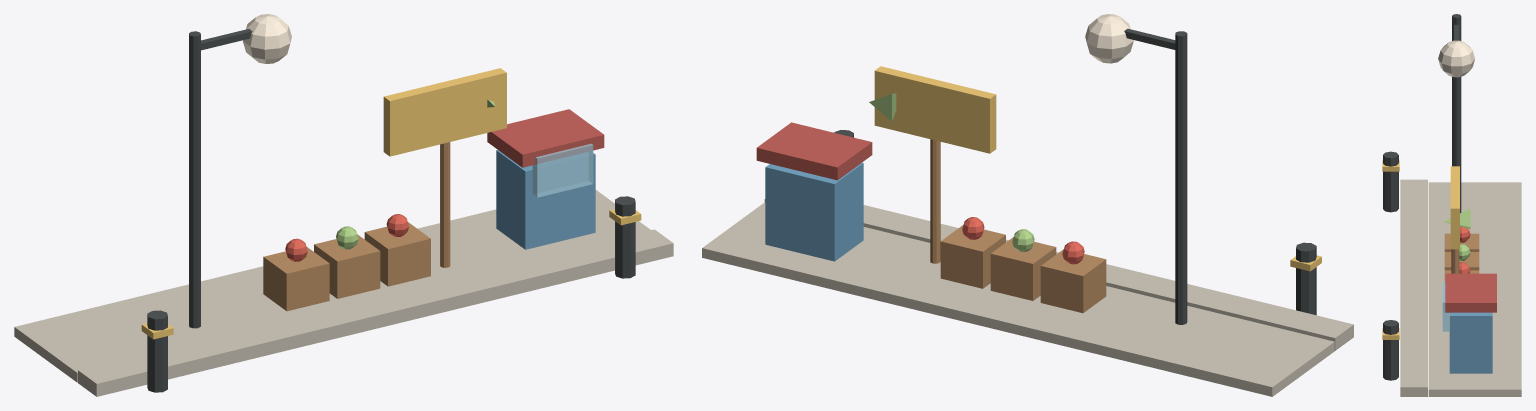
File: street-detail-kit.glb
3 renders of one model, left to right at view 1: azimuth 30°, elevation 25°; view 2: azimuth 150°, elevation 25°; view 3: azimuth 270°, elevation 25°, orthographic. The views are drawn at different scales.
Parts seen in each view (by area): view 1: StreetKit_Pavement, StreetKit_Curb, StreetKit_Sign_Board, StreetKit_Newsstand_Base, StreetKit_Newsstand_Roof, StreetKit_Lamp_Post, StreetKit_Crate_0, StreetKit_Crate_1, StreetKit_Crate_2, StreetKit_Newsstand_Face, StreetKit_Lamp_Globe, StreetKit_Bollard_-3.0 (+2 smaller); view 2: StreetKit_Pavement, StreetKit_Newsstand_Base, StreetKit_Sign_Board, StreetKit_Curb, StreetKit_Newsstand_Roof, StreetKit_Lamp_Post, StreetKit_Crate_0, StreetKit_Crate_1, StreetKit_Crate_2, StreetKit_Lamp_Globe, StreetKit_Sign_Post, StreetKit_Bollard_-3.0; view 3: StreetKit_Pavement, StreetKit_Curb, StreetKit_Newsstand_Base, StreetKit_Newsstand_Roof, StreetKit_Lamp_Post, StreetKit_Lamp_Globe, StreetKit_Bollard_-3.0, StreetKit_Bollard_3.0, StreetKit_Sign_Board, StreetKit_Crate_1, StreetKit_Crate_0, StreetKit_Newsstand_Face (+4 smaller).
Part boxes in pixels (x1,y1,x2,y2): StreetKit_Pavement: (14,190,650,382); StreetKit_Curb: (78,229,673,396); StreetKit_Sign_Board: (383,68,506,156); StreetKit_Newsstand_Base: (496,150,595,249); StreetKit_Newsstand_Roof: (487,109,604,167); StreetKit_Lamp_Post: (189,31,200,328); StreetKit_Crate_0: (263,246,329,311); StreetKit_Crate_1: (314,234,380,298); StreetKit_Crate_2: (364,222,430,286); StreetKit_Newsstand_Face: (532,143,593,197); StreetKit_Lamp_Globe: (243,14,291,63); StreetKit_Bollard_-3.0: (147,310,167,392); StreetKit_Pavement: (702,202,1334,396); StreetKit_Newsstand_Base: (765,162,863,261); StreetKit_Sign_Board: (874,66,996,153); StreetKit_Curb: (764,199,1353,350); StreetKit_Newsstand_Roof: (756,122,872,180); StreetKit_Lamp_Post: (1175,31,1187,324); StreetKit_Crate_0: (1040,249,1106,313); StreetKit_Crate_1: (990,237,1056,300); StreetKit_Crate_2: (940,225,1005,288); StreetKit_Lamp_Globe: (1085,14,1133,63); StreetKit_Sign_Post: (930,139,940,263); StreetKit_Bollard_-3.0: (1296,242,1316,315); StreetKit_Pavement: (1428,182,1521,396); StreetKit_Curb: (1400,179,1427,396); StreetKit_Newsstand_Base: (1449,312,1492,373); StreetKit_Newsstand_Roof: (1445,273,1496,312); StreetKit_Lamp_Post: (1452,14,1461,213); StreetKit_Lamp_Globe: (1438,40,1474,77); StreetKit_Bollard_-3.0: (1383,151,1398,212); StreetKit_Bollard_3.0: (1383,320,1398,380); StreetKit_Sign_Board: (1450,166,1459,249); StreetKit_Crate_1: (1444,252,1479,270); StreetKit_Crate_0: (1444,233,1479,251); StreetKit_Newsstand_Face: (1442,282,1449,331).
Bounding box in the file's own units: 7.4 × 3.7 × 2.1.
